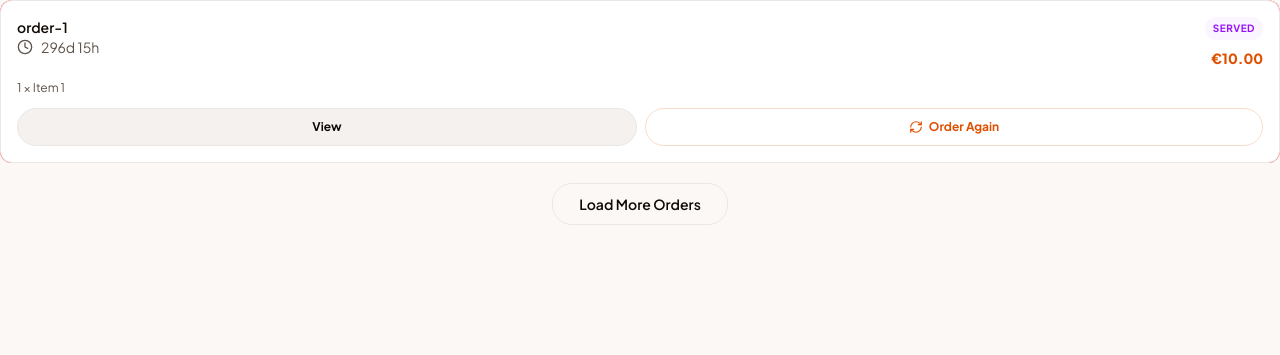
Test: OrderHistory cursor pagination › appends a following page without duplicates
Expected: the text "order-1" is shown, x1=17 y1=18 x2=68 y2=36
Click the button "Load More Orders": (640, 204) x1=552 y1=183 x2=728 y2=225
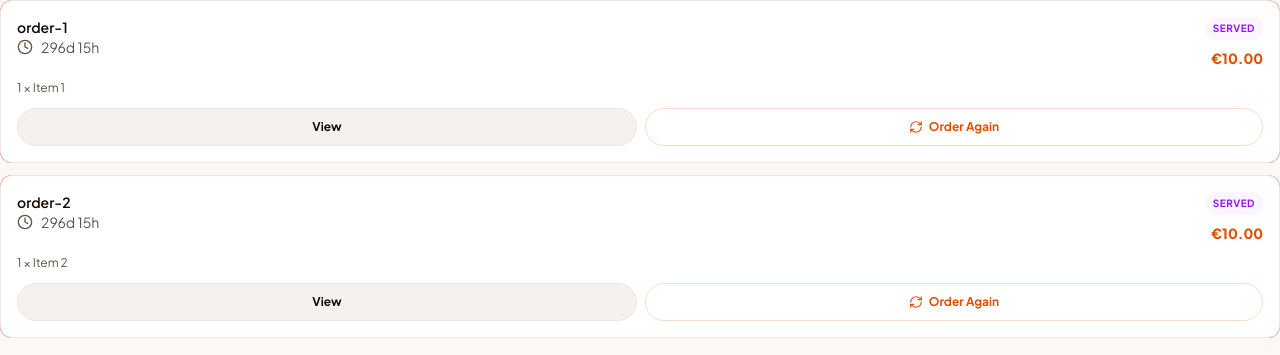
Expected: the text "order-1" is shown once, x1=17 y1=18 x2=68 y2=36
Expected: the text "order-2" is shown, x1=17 y1=193 x2=70 y2=211
Expected: the button "Load More Orders" is gone
